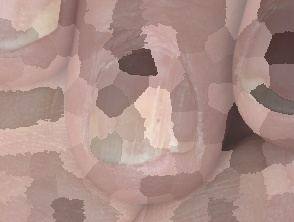Nail_psoriasis: (71, 68, 210, 192)
